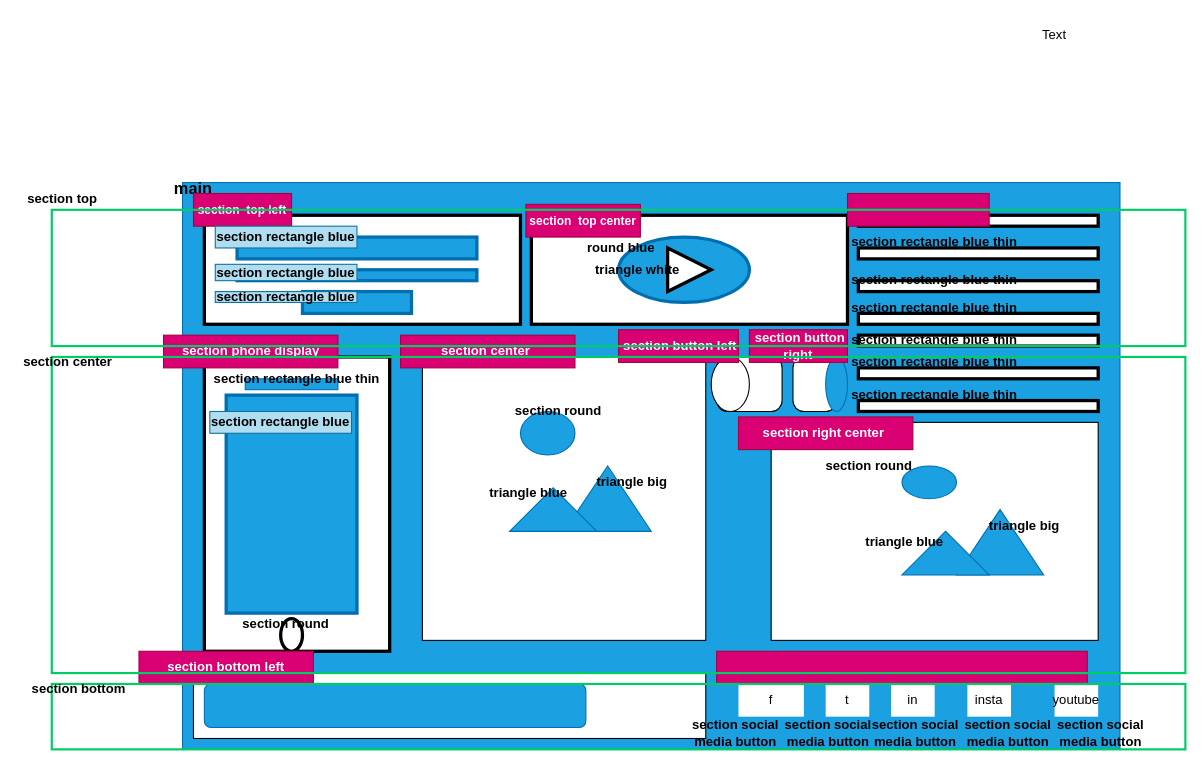
Image size: 1204x773. Some labels were removed from this diagram. Here are the shapes that lost their labels. From the top down, the centre of each, then its label:
At (x=917, y=209): "section top right".
At (x=901, y=667): "section bottom right".
At (x=394, y=705): "section rectangle blue thick".
